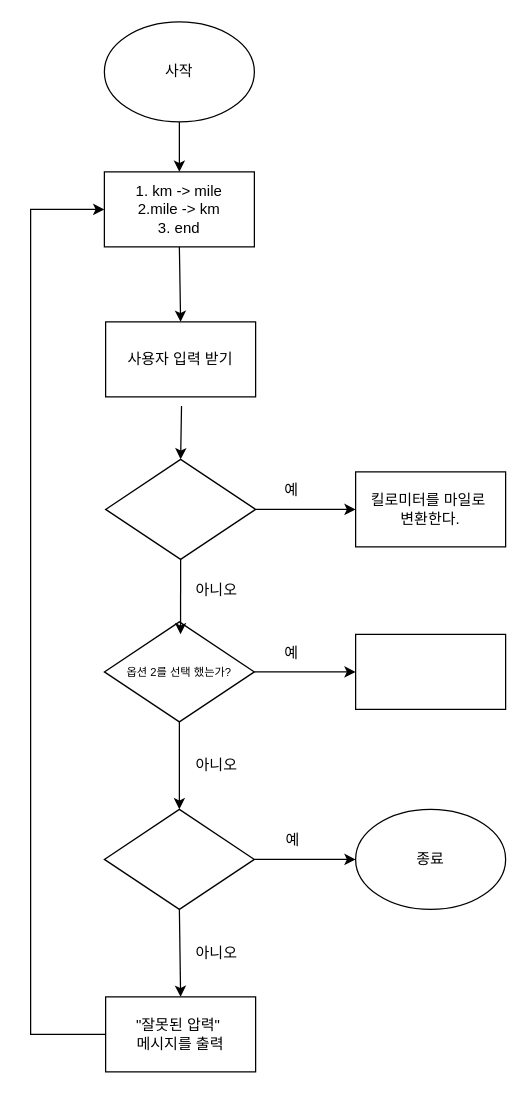
Some shapes in this 528 by 1094 pixel diagram are drawn without their labels. The box of each missing label's shape, as (x1, y1, x2, y2) in pixels:
미일을 킬로미터로 변환 한다.: (354, 633, 506, 709)
옵션 1을 선택 했는가?: (104, 458, 256, 559)
옵션 3을 선택 했는가?: (103, 808, 254, 909)
